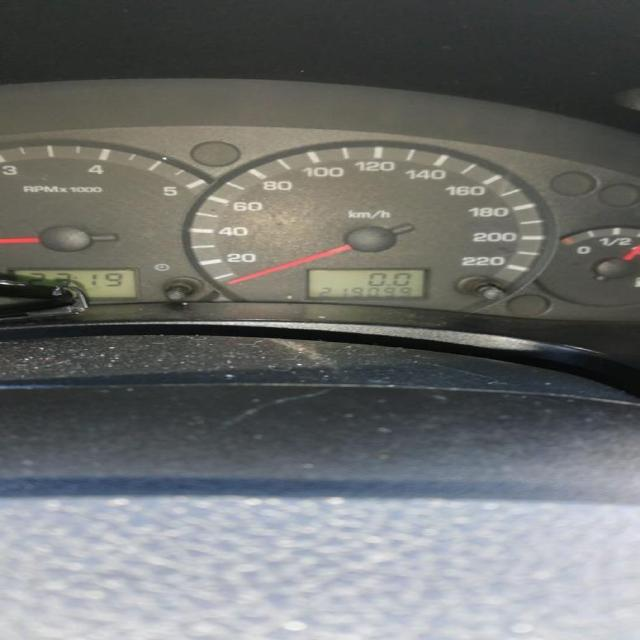odometer: (303, 267, 428, 300)
